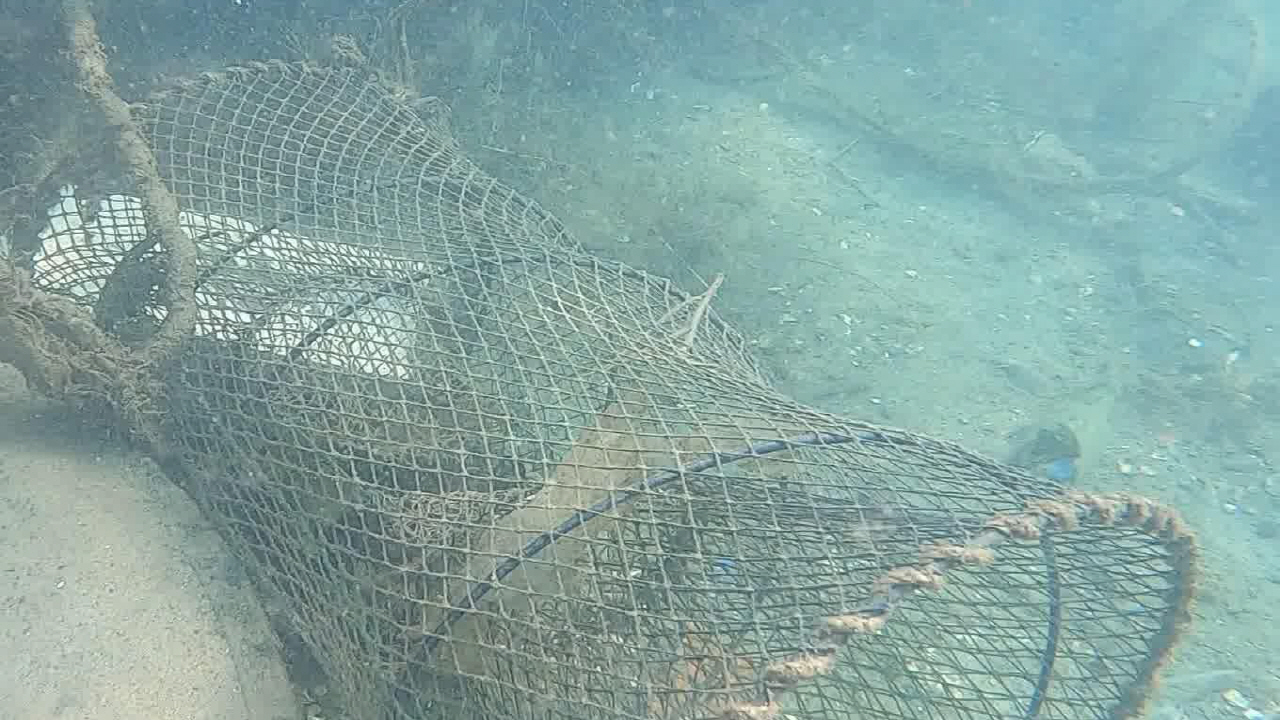spring fish trap: (11, 50, 1205, 720)
